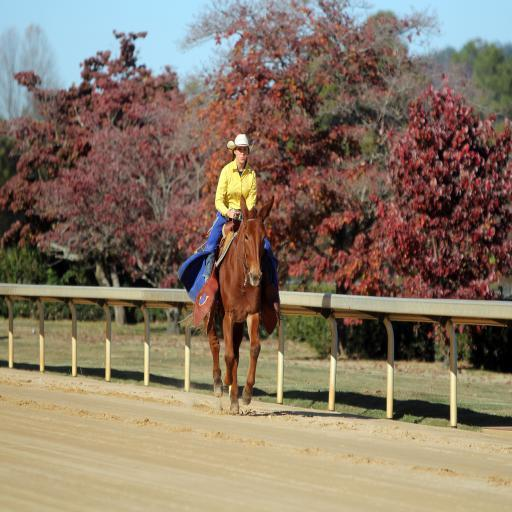horse: (184, 198, 281, 404)
